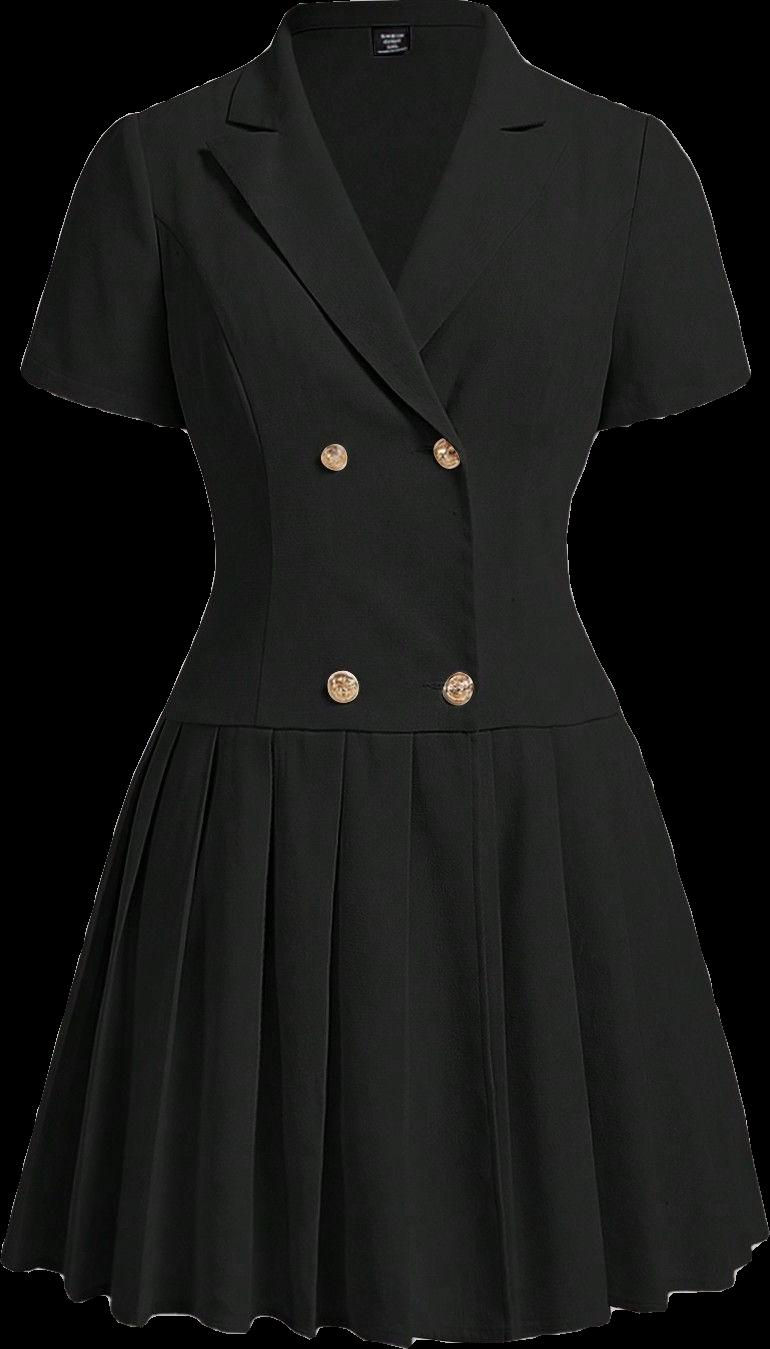Bodice: (128, 0, 647, 736)
Hemline: (0, 1228, 769, 1348)
Neckline: (280, 7, 495, 308)
Skirt: (1, 697, 769, 1346)
Sleeve: (20, 88, 192, 432), (596, 113, 750, 430)
Sleeveline: (127, 111, 200, 436), (588, 115, 660, 438)
Waistline: (161, 698, 632, 749)
